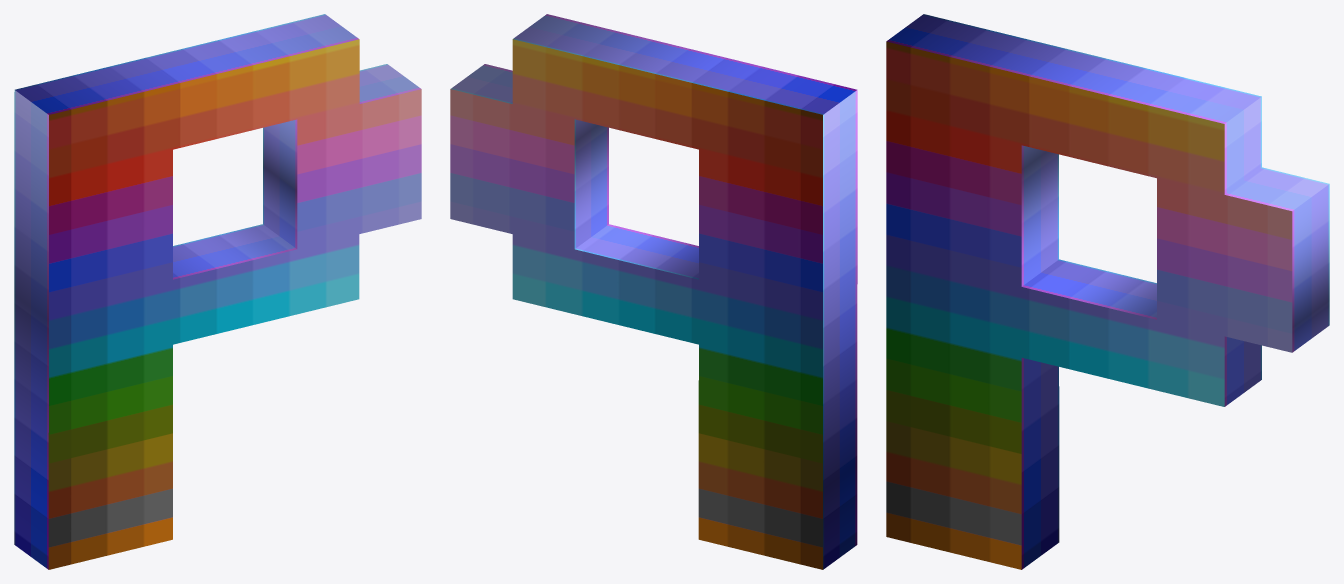
3 renders of one model, left to right at view 1: azimuth 30°, elevation 25°; view 2: azimuth 150°, elevation 25°; view 3: azimuth 330°, elevation 25°, orthographic. The views are drawn at different scales.
Visible parts, largest first — view 1: p; view 2: p; view 3: p.
Part boxes in pixels (x1,y1,x2,y2): p: (14,14,421,569); p: (450,14,857,569); p: (886,14,1329,569).
Bounding box in the file's own units: 0.5 × 0.5834 × 0.0803.
1 material, 1 textured.
